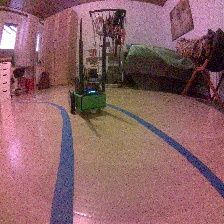rob: (66, 67, 106, 114)
